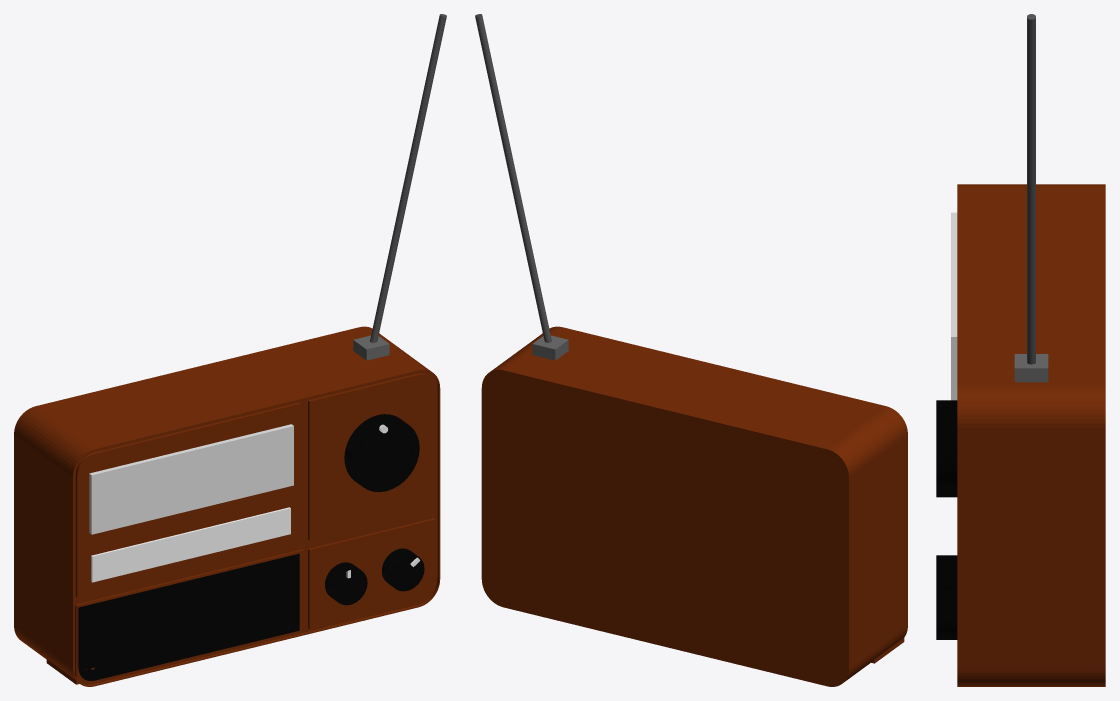
File: Radio.fbx
The picture shows the model from 3 angles, left to right: view 1: azimuth 30°, elevation 25°; view 2: azimuth 150°, elevation 25°; view 3: azimuth 270°, elevation 25°; orthographic projection. The views are drawn at different scales.
Parts seen in each view (by area): view 1: Cylinder.004; view 2: Cylinder.004; view 3: Cylinder.004.
Part boxes in pixels (x1,y1,x2,y2): Cylinder.004: (14,14,446,686); Cylinder.004: (475,14,907,686); Cylinder.004: (936,14,1105,686).
Bounding box in the file's own units: 223 × 295 × 64.52.
